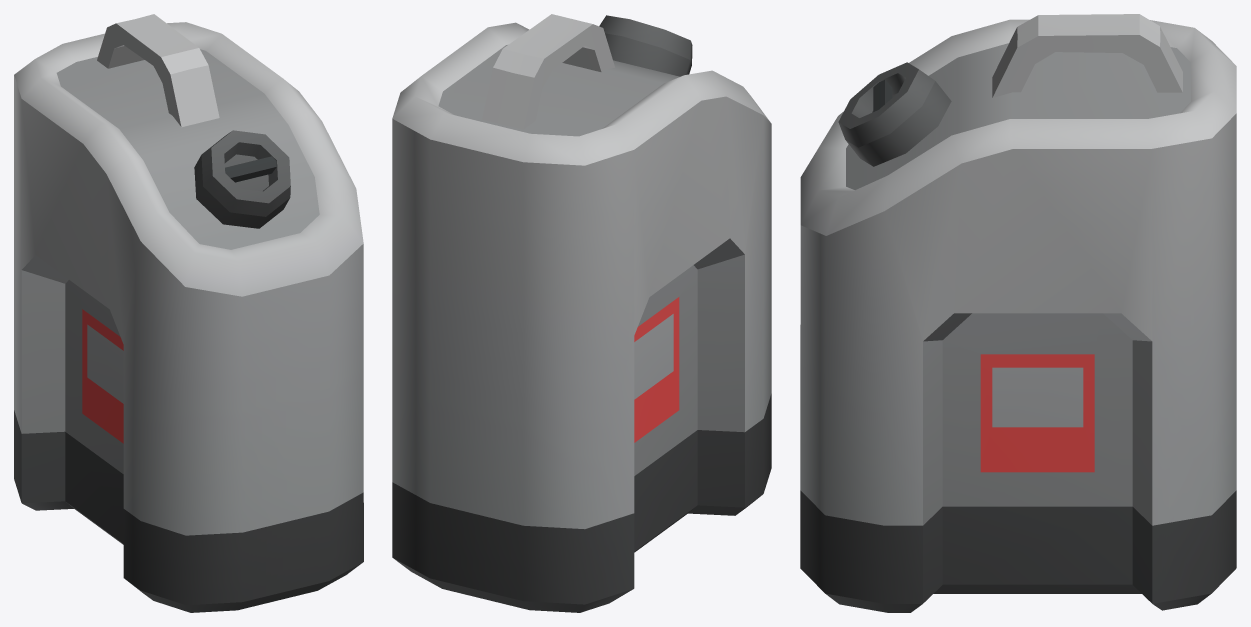
Rendered from Gas_can_013.glb.
3 renders of one model, left to right at view 1: azimuth 30°, elevation 25°; view 2: azimuth 150°, elevation 25°; view 3: azimuth 270°, elevation 25°, orthographic. The views are drawn at different scales.
Parts seen in each view (by area): view 1: Gas_can_013; view 2: Gas_can_013; view 3: Gas_can_013.
Part boxes in pixels (x1,y1,x2,y2): Gas_can_013: (14, 14, 363, 612); Gas_can_013: (392, 14, 771, 612); Gas_can_013: (800, 14, 1236, 612).
Bounding box in the file's own units: 0.2083 × 0.4406 × 0.3243.
Materials: 1 (1 with a texture image).
